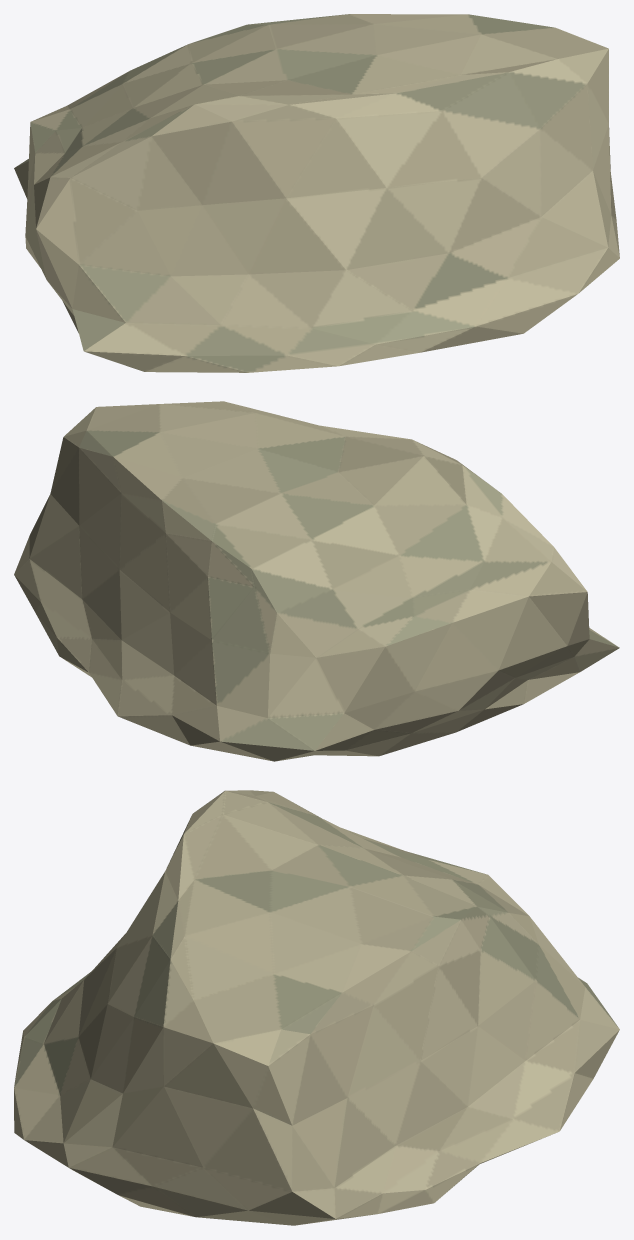
Rendered from SM_Rock_Boulder_Large.fbx.
The picture shows the model from 3 angles, top to bottom: view 1: azimuth 30°, elevation 25°; view 2: azimuth 150°, elevation 25°; view 3: azimuth 270°, elevation 25°; orthographic projection. The views are drawn at different scales.
Parts seen in each view (by area): view 1: SM_Rock_Boulder_Large_LOD0; view 2: SM_Rock_Boulder_Large_LOD0; view 3: SM_Rock_Boulder_Large_LOD0.
Part boxes in pixels (bbox=[...]): SM_Rock_Boulder_Large_LOD0: bbox=[14, 14, 619, 372]; SM_Rock_Boulder_Large_LOD0: bbox=[14, 401, 619, 761]; SM_Rock_Boulder_Large_LOD0: bbox=[14, 790, 619, 1225].
Size of what is drawn, in the model's own units: 2.38 by 0.9751 by 2.
